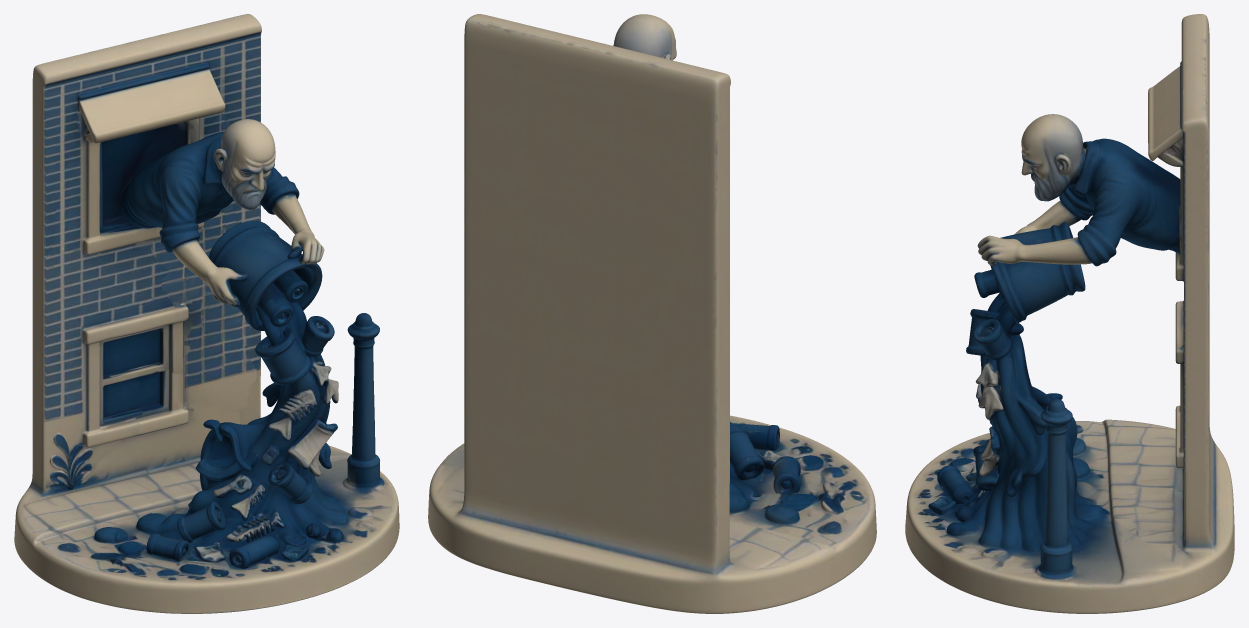
The model's file is compressed_1763493233532_trashdude.glb.
3 renders of one model, left to right at view 1: azimuth 30°, elevation 25°; view 2: azimuth 150°, elevation 25°; view 3: azimuth 270°, elevation 25°, orthographic. The views are drawn at different scales.
Visible parts, largest first — view 1: material; view 2: material; view 3: material.
Part boxes in pixels (<box>): material: <box>14,14,399,613</box>; material: <box>428,14,876,613</box>; material: <box>905,14,1234,613</box>.
Bounding box in the file's own units: 0.7317 × 0.9411 × 0.6089.
1 material, 1 textured.
